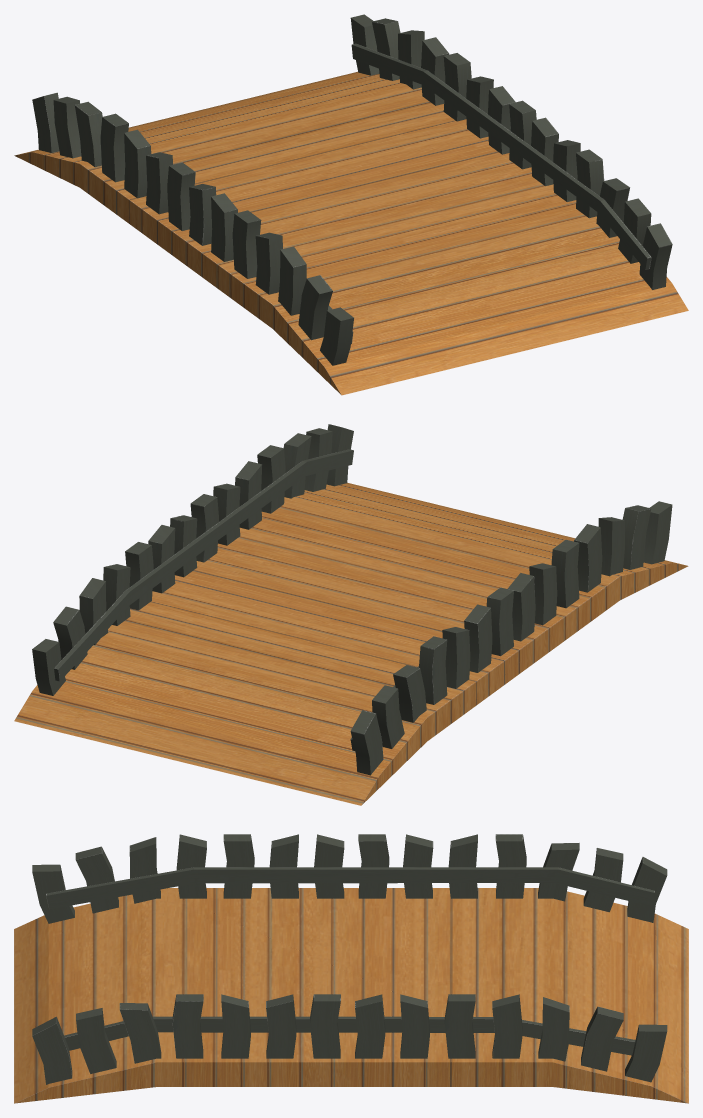
The model's file is bridge_new.fbx.
3 views of the same model, one above another, from view 1: azimuth 30°, elevation 25°; view 2: azimuth 150°, elevation 25°; view 3: azimuth 270°, elevation 25° (orthographic). The views are drawn at different scales.
Parts seen in each view (by area): view 1: pCube42; view 2: pCube42; view 3: pCube42.
Part boxes in pixels (left/top/right/bottom): pCube42: left=14, top=14, right=688, bottom=395; pCube42: left=14, top=424, right=688, bottom=805; pCube42: left=14, top=834, right=688, bottom=1103.
Size of the model in its own units: 1518 by 400 by 2481.
